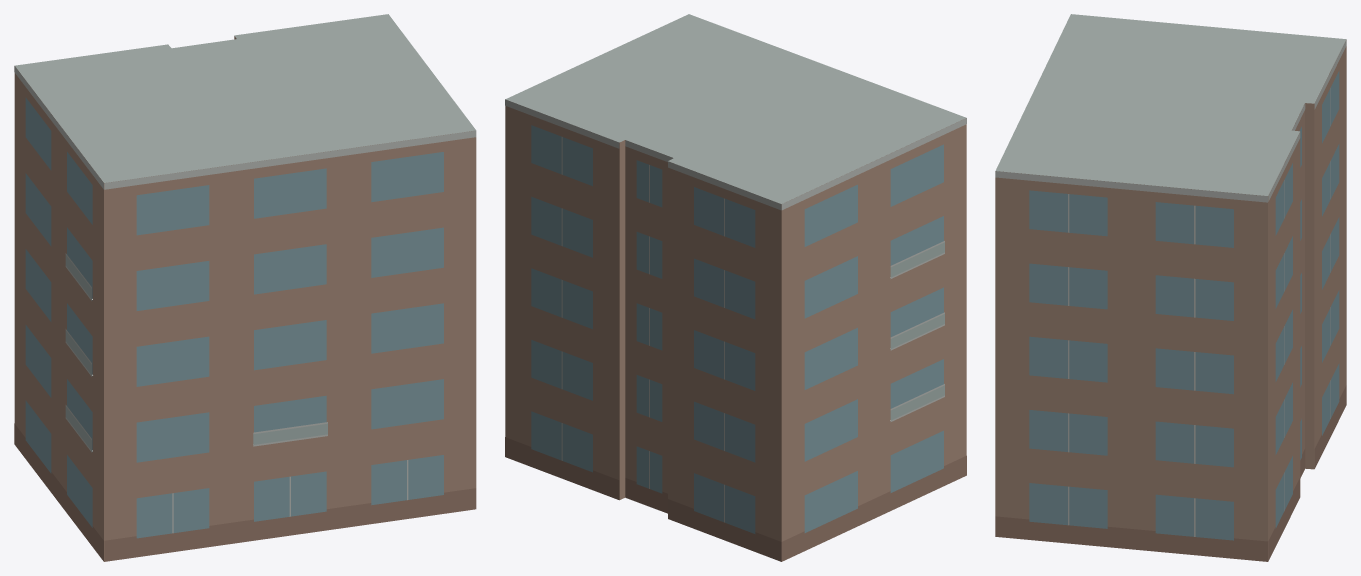
File: survey-upis-32663390.glb
The picture shows the model from 3 angles, left to right: view 1: azimuth 30°, elevation 25°; view 2: azimuth 150°, elevation 25°; view 3: azimuth 270°, elevation 25°; orthographic projection. The views are drawn at different scales.
Parts seen in each view (by area): view 1: survey-upis-32663390.tmp; view 2: survey-upis-32663390.tmp; view 3: survey-upis-32663390.tmp.
Boxes of the visible parts, bbox=[...] form: survey-upis-32663390.tmp: bbox=[14, 14, 476, 561]; survey-upis-32663390.tmp: bbox=[505, 14, 966, 561]; survey-upis-32663390.tmp: bbox=[995, 14, 1346, 561].
Bounding box in the file's own units: 14.7 × 13.75 × 11.98.
